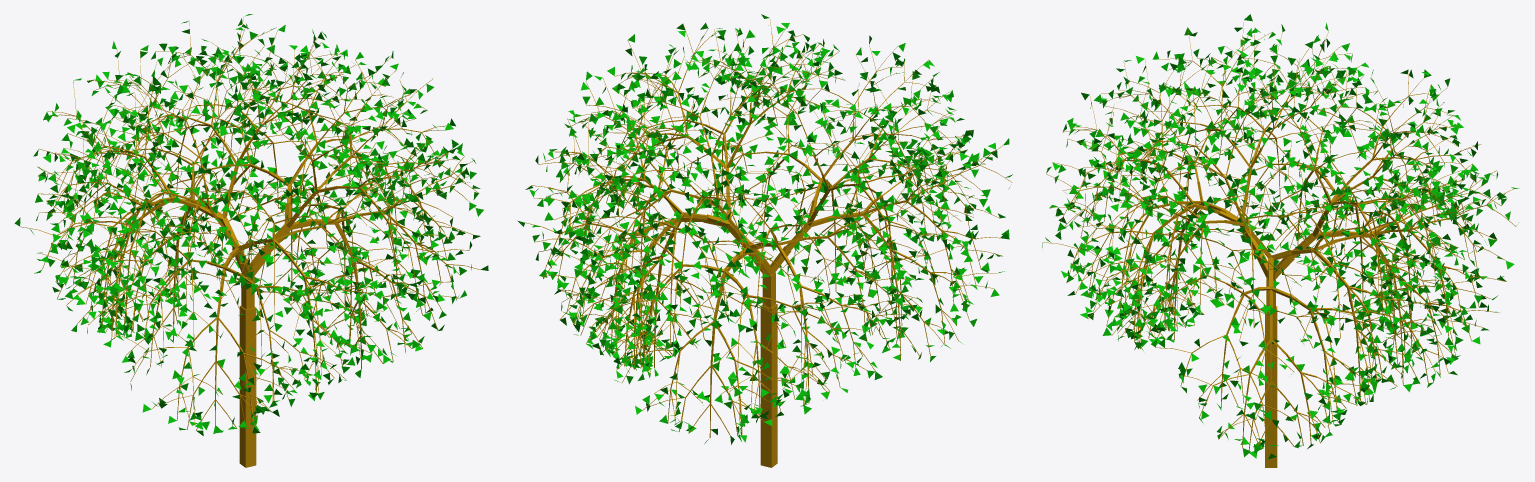
Rendered from tree_05.glb.
The picture shows the model from 3 angles, left to right: view 1: azimuth 30°, elevation 25°; view 2: azimuth 150°, elevation 25°; view 3: azimuth 270°, elevation 25°; orthographic projection.
Visible parts, largest first — view 1: tree05 #1; view 2: tree05 #1; view 3: tree05 #1.
Boxes of the visible parts, x1,y1,x2,y2 form: tree05 #1: (14,14,488,467); tree05 #1: (517,14,1012,467); tree05 #1: (1042,14,1519,467).
Bounding box in the file's own units: 95.95 × 95.05 × 99.05.
